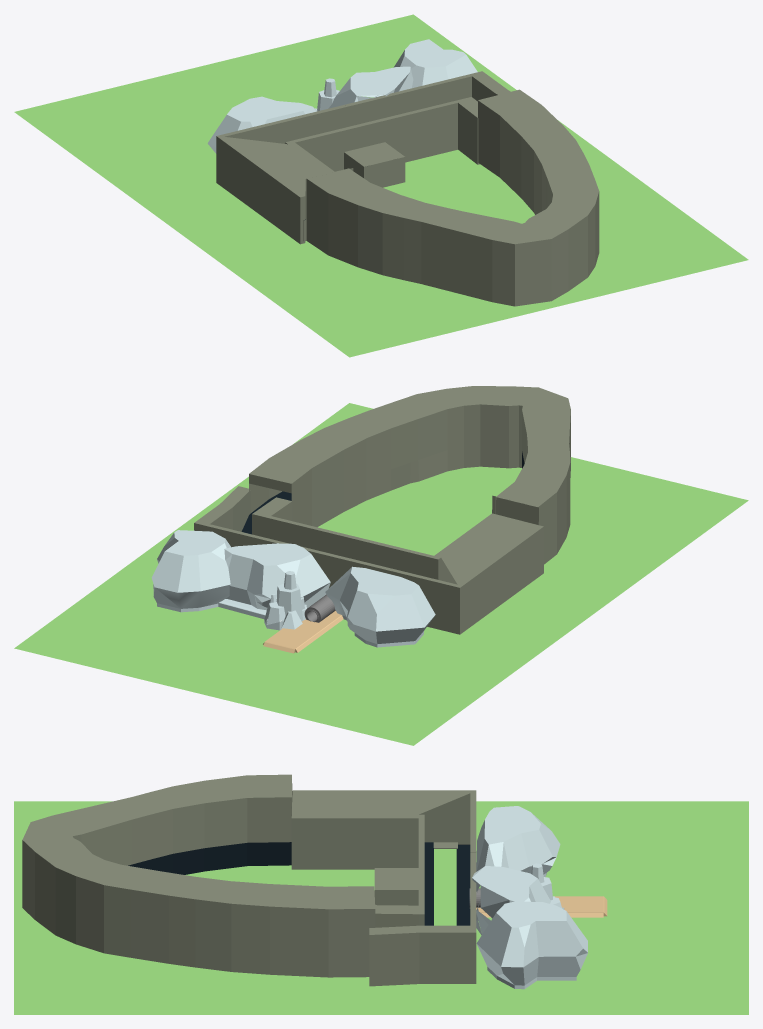
Rendered from kanal.gltf.
The picture shows the model from 3 angles, top to bottom: view 1: azimuth 30°, elevation 25°; view 2: azimuth 150°, elevation 25°; view 3: azimuth 270°, elevation 25°; orthographic projection. The views are drawn at different scales.
Parts seen in each view (by area): view 1: STOCK; view 2: STOCK; view 3: STOCK.
Part boxes in pixels (x1,y1,x2,y2): STOCK: (14, 14, 748, 357); STOCK: (14, 386, 748, 745); STOCK: (14, 774, 748, 1014).
Bounding box in the file's own units: 169 × 26.88 × 245.
